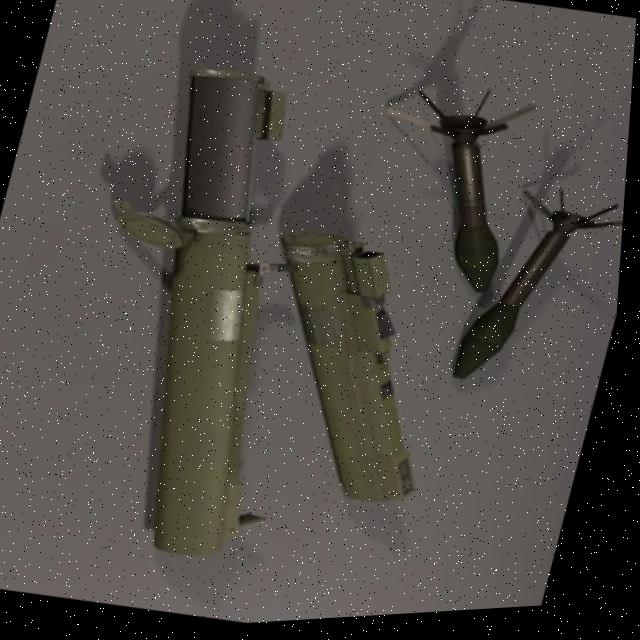rocket: (0, 0, 565, 637)
